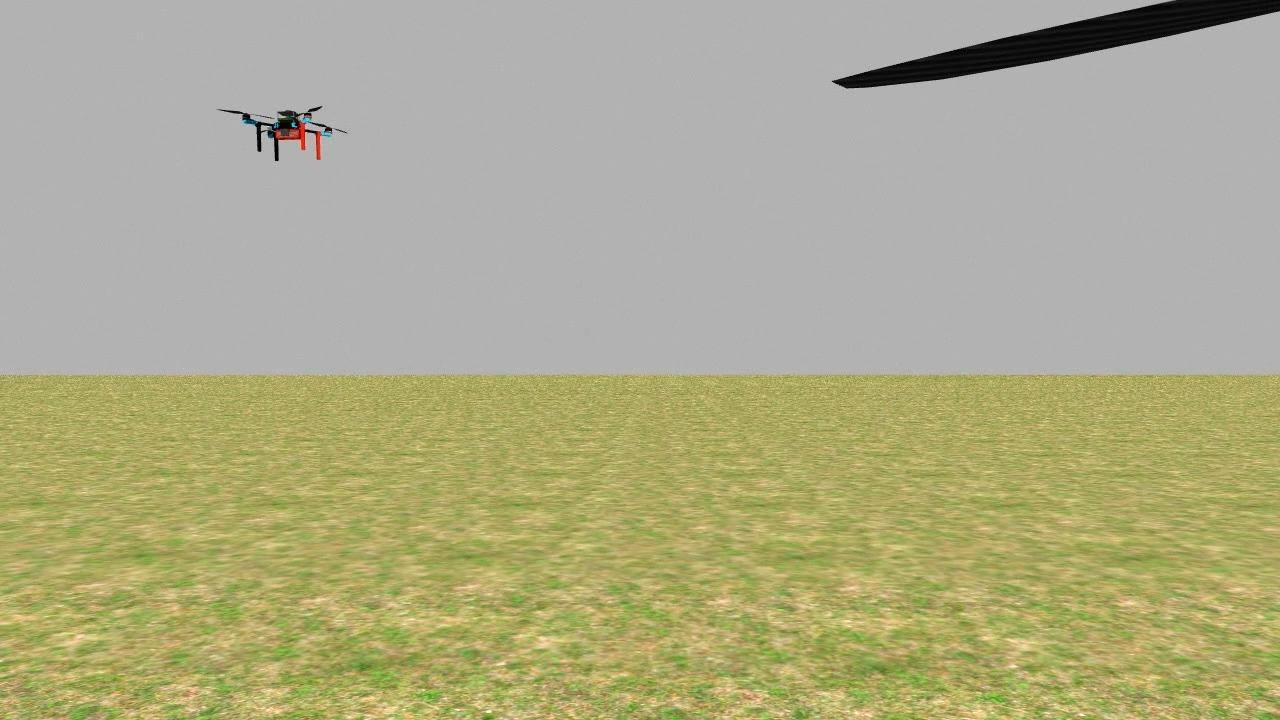UAV: (223, 90, 361, 176)
